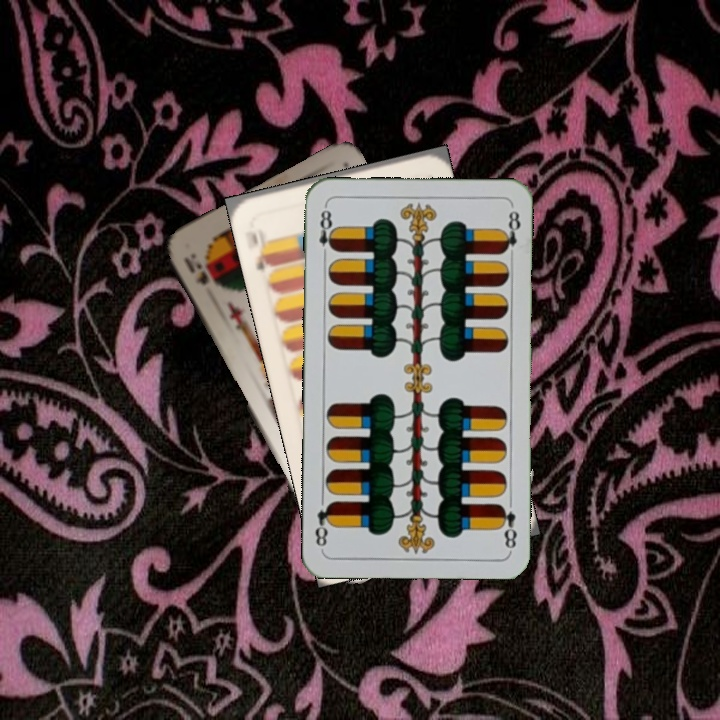E10: (247, 225, 276, 273)
E8: (315, 202, 338, 261), (495, 500, 520, 553)
SK: (179, 248, 211, 287)
